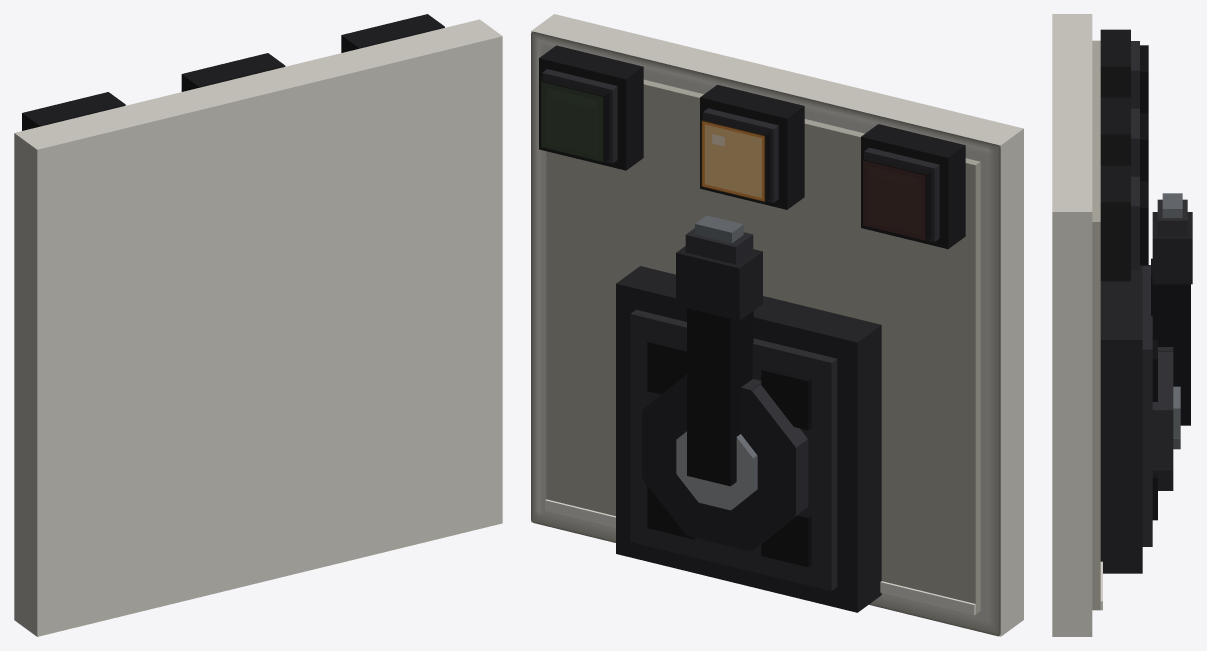
The model's file is lever_switch3_orange.obj.
3 views of the same model, side by side, from view 1: azimuth 30°, elevation 25°; view 2: azimuth 150°, elevation 25°; view 3: azimuth 270°, elevation 25° (orthographic). The views are drawn at different scales.
Parts seen in each view (by area): view 1: Panel, LampOrange, LampGreen, LampRed; view 2: Panel, Base, Lever, LampOrange, LampGreen, LampRed; view 3: Panel, Base, Lever, LampGreen, LampOrange, LampRed.
Part boxes in pixels (x1=…): Panel: x1=14, y1=19, x2=502, y2=636; LampOrange: x1=181, y1=53, x2=285, y2=91; LampGreen: x1=341, y1=14, x2=444, y2=52; LampRed: x1=22, y1=92, x2=125, y2=130; Panel: x1=531, y1=14, x2=1023, y2=636; Base: x1=616, y1=266, x2=881, y2=612; Lever: x1=676, y1=215, x2=762, y2=486; LampOrange: x1=700, y1=84, x2=804, y2=209; LampGreen: x1=539, y1=45, x2=643, y2=170; LampRed: x1=861, y1=124, x2=965, y2=248; Panel: x1=1052, y1=14, x2=1102, y2=636; Base: x1=1100, y1=265, x2=1180, y2=573; Lever: x1=1151, y1=193, x2=1192, y2=425; LampGreen: x1=1100, y1=165, x2=1148, y2=281; LampOrange: x1=1100, y1=97, x2=1148, y2=181; LampRed: x1=1100, y1=29, x2=1148, y2=113.
Size of the model in its own units: 0.875 by 0.875 by 0.2625.
Materials: 1 (1 with a texture image).
